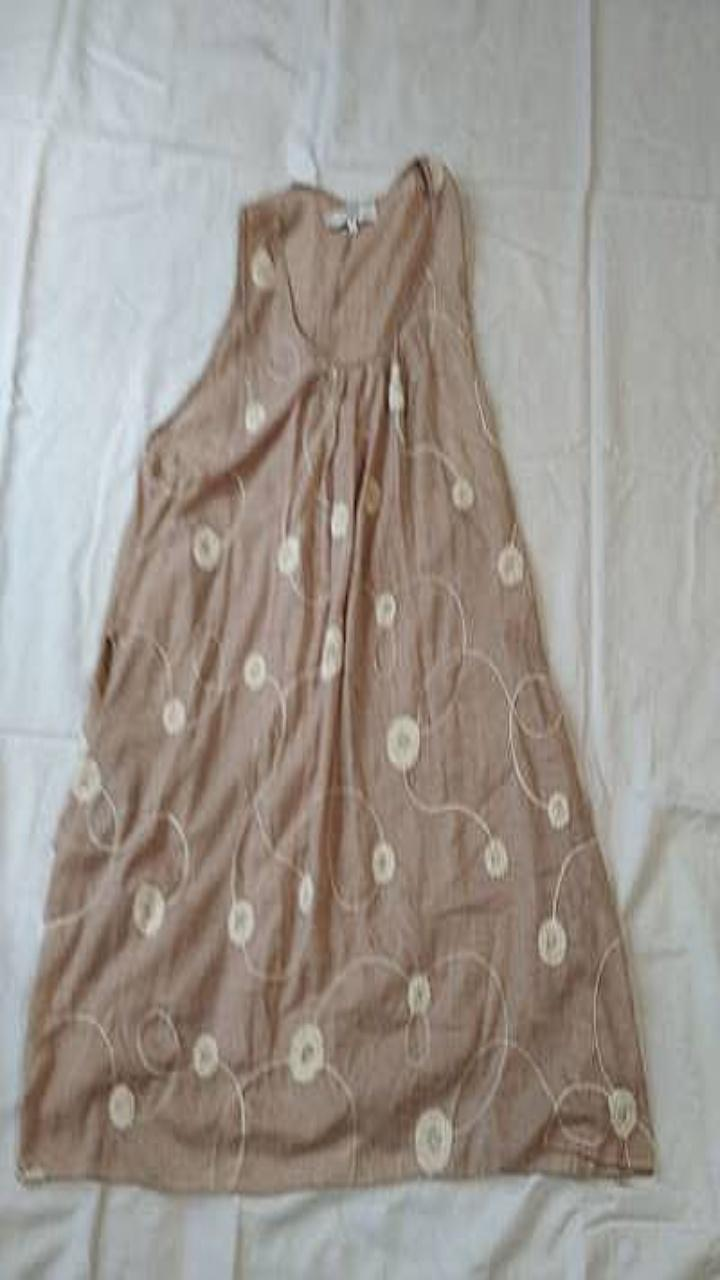Dresses: (18, 156, 653, 1191)
